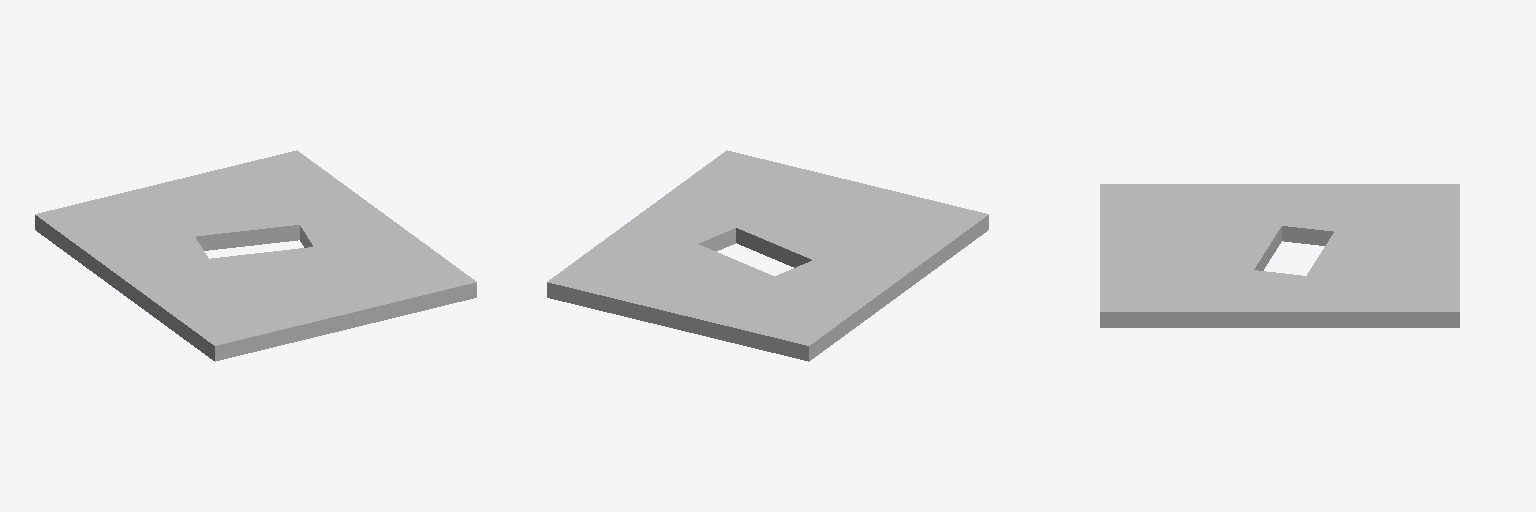
File: floor_spawn_01.obj
The picture shows the model from 3 angles: view 1: azimuth 30°, elevation 25°; view 2: azimuth 150°, elevation 25°; view 3: azimuth 270°, elevation 25°; orthographic projection.
Visible parts, largest first — view 1: CSGCombiner; view 2: CSGCombiner; view 3: CSGCombiner.
Boxes of the visible parts, x1,y1,x2,y2 form: CSGCombiner: [35, 150, 476, 361]; CSGCombiner: [547, 150, 988, 361]; CSGCombiner: [1100, 184, 1459, 327].
Bounding box in the file's own units: 106 × 6 × 126.